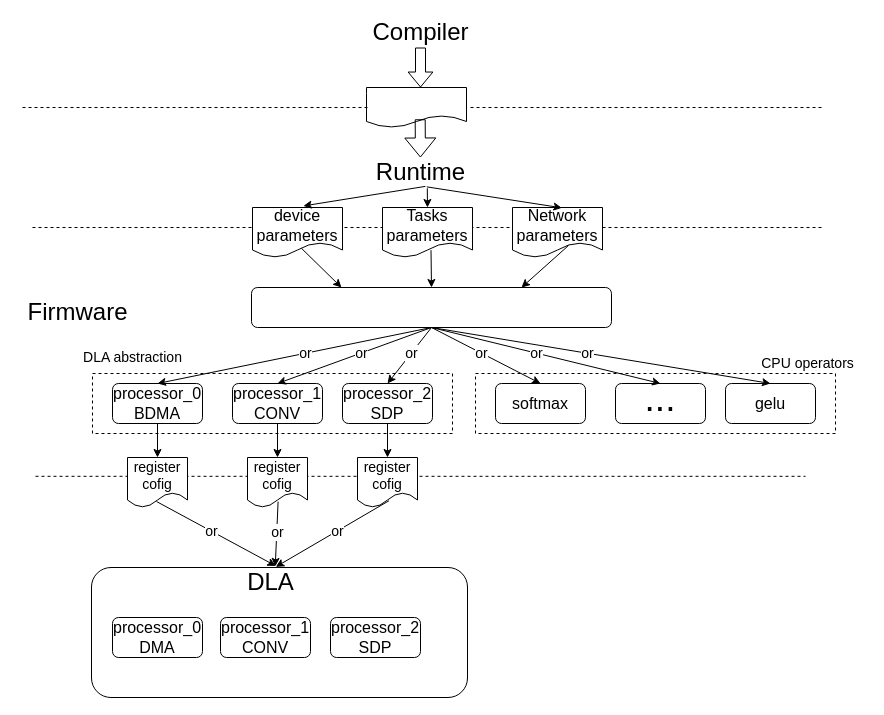
This 884x715 diagram has some shape labels left out. The centre of each missing label's shape, as x and y in pixels:
"AI engine deploy module" goes at point (431, 307).
"mapfile" goes at point (416, 107).
